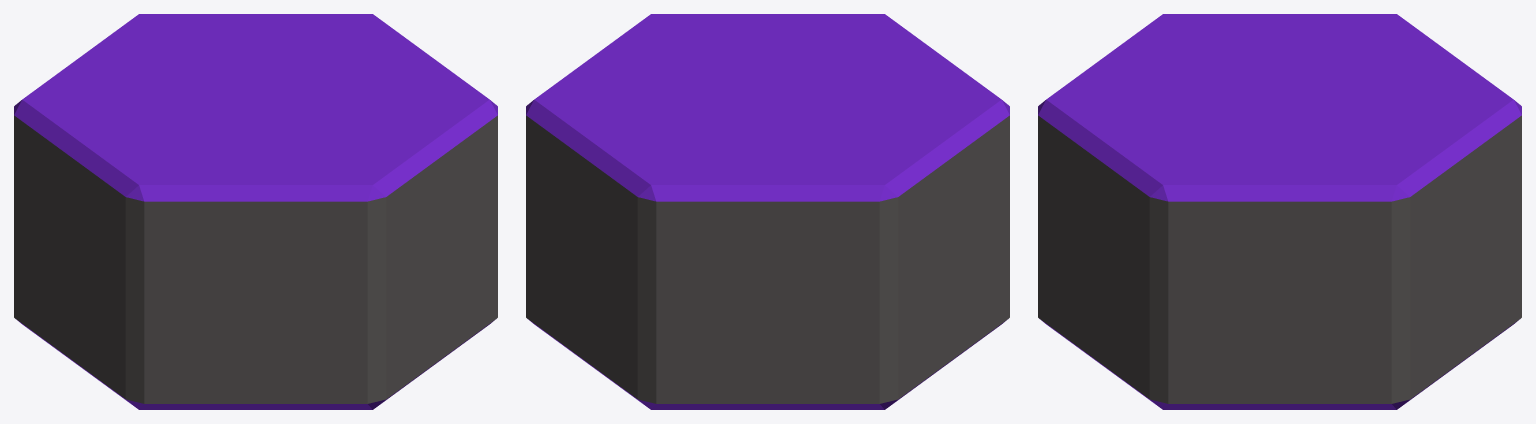
File: BaseHex_Purple.fbx
The picture shows the model from 3 angles, left to right: view 1: azimuth 30°, elevation 25°; view 2: azimuth 150°, elevation 25°; view 3: azimuth 270°, elevation 25°; orthographic projection.
Visible parts, largest first — view 1: 05.Purple; view 2: 05.Purple; view 3: 05.Purple.
Boxes of the visible parts, bbox=[...] form: 05.Purple: bbox=[14, 14, 497, 409]; 05.Purple: bbox=[526, 14, 1009, 409]; 05.Purple: bbox=[1038, 14, 1521, 409].
Size of the model in its own units: 173 by 100 by 195.
Materials: 1 (1 with a texture image).
